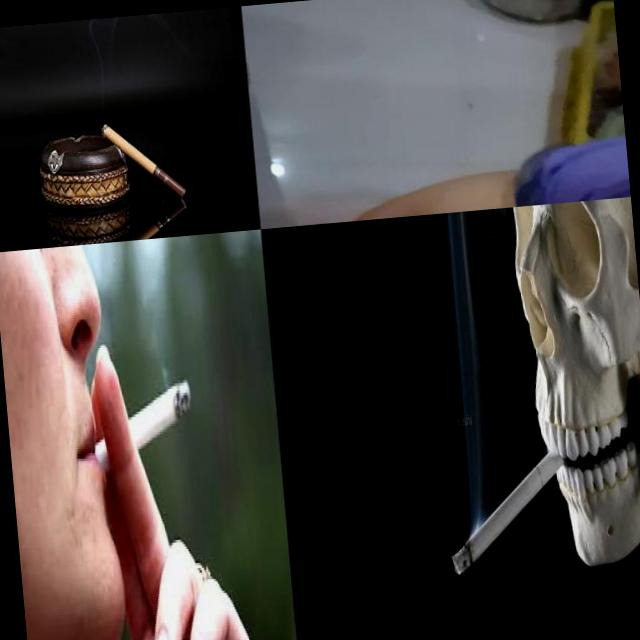cigarette: (443, 446, 573, 576), (78, 379, 198, 482), (100, 116, 186, 204), (130, 196, 190, 240)
